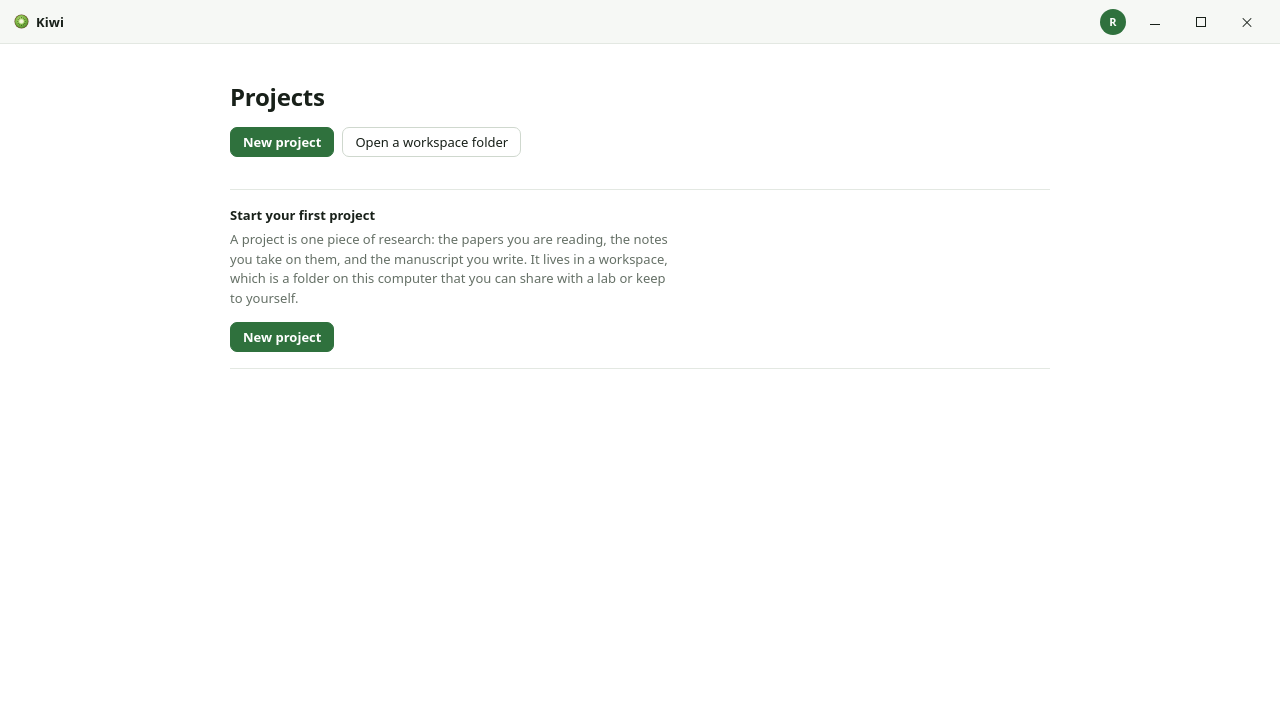
Scenario: App › clears the shell after explicit sign-out
Click the button named "Account reader@example.test": (1113, 22) [1100, 8, 1126, 34]
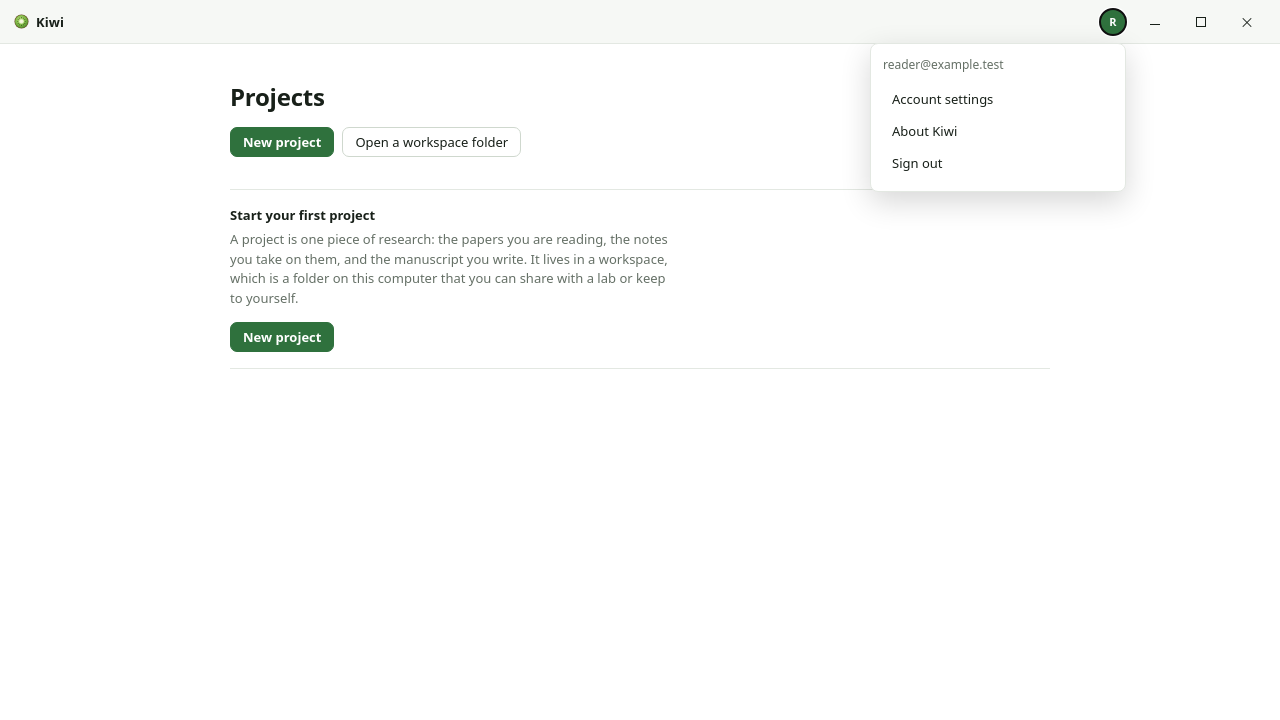
Click the button "Sign out": (998, 162) [883, 146, 1113, 178]
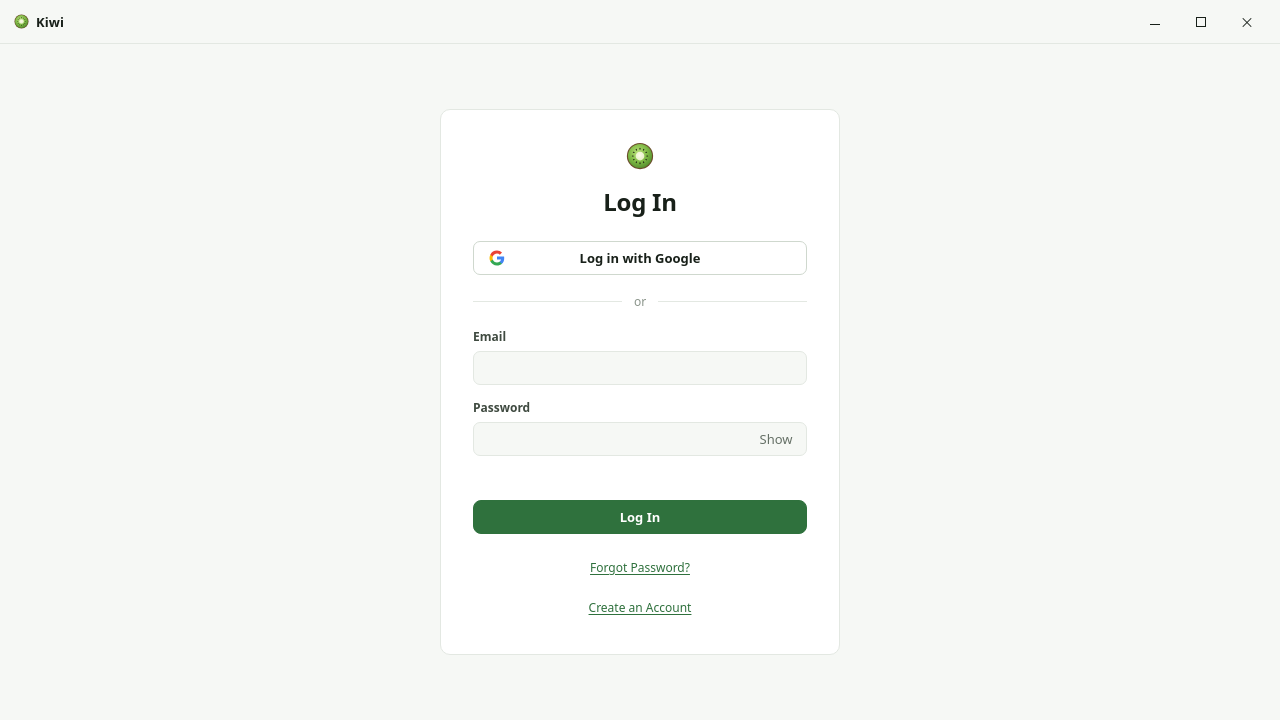
Expected: the heading "Log In" is shown, [603, 185, 677, 218]
